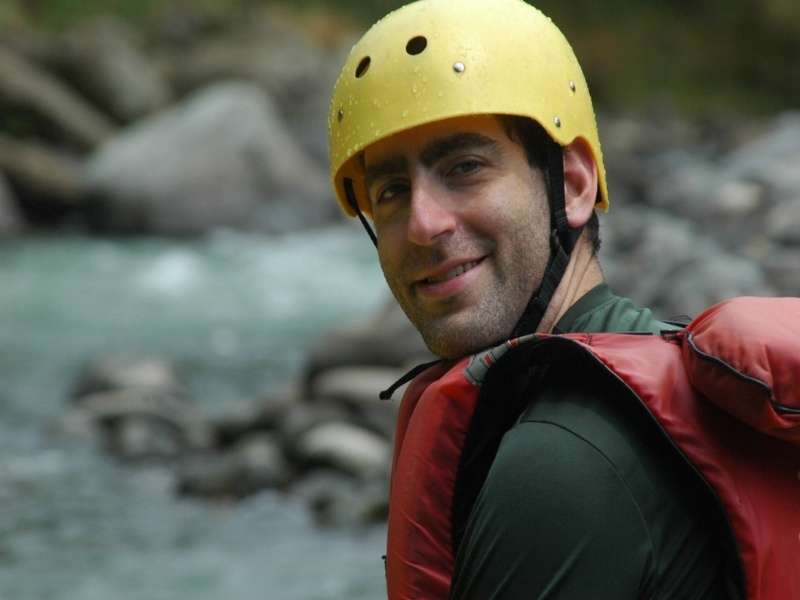baret: (323, 1, 609, 216)
